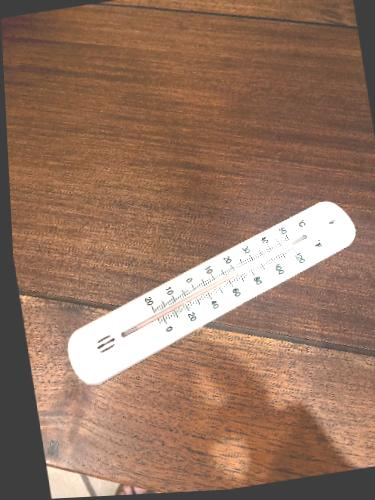thermo: (61, 194, 359, 389)
